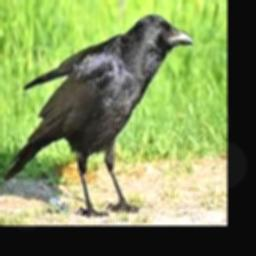Crow: (5, 13, 197, 218)
